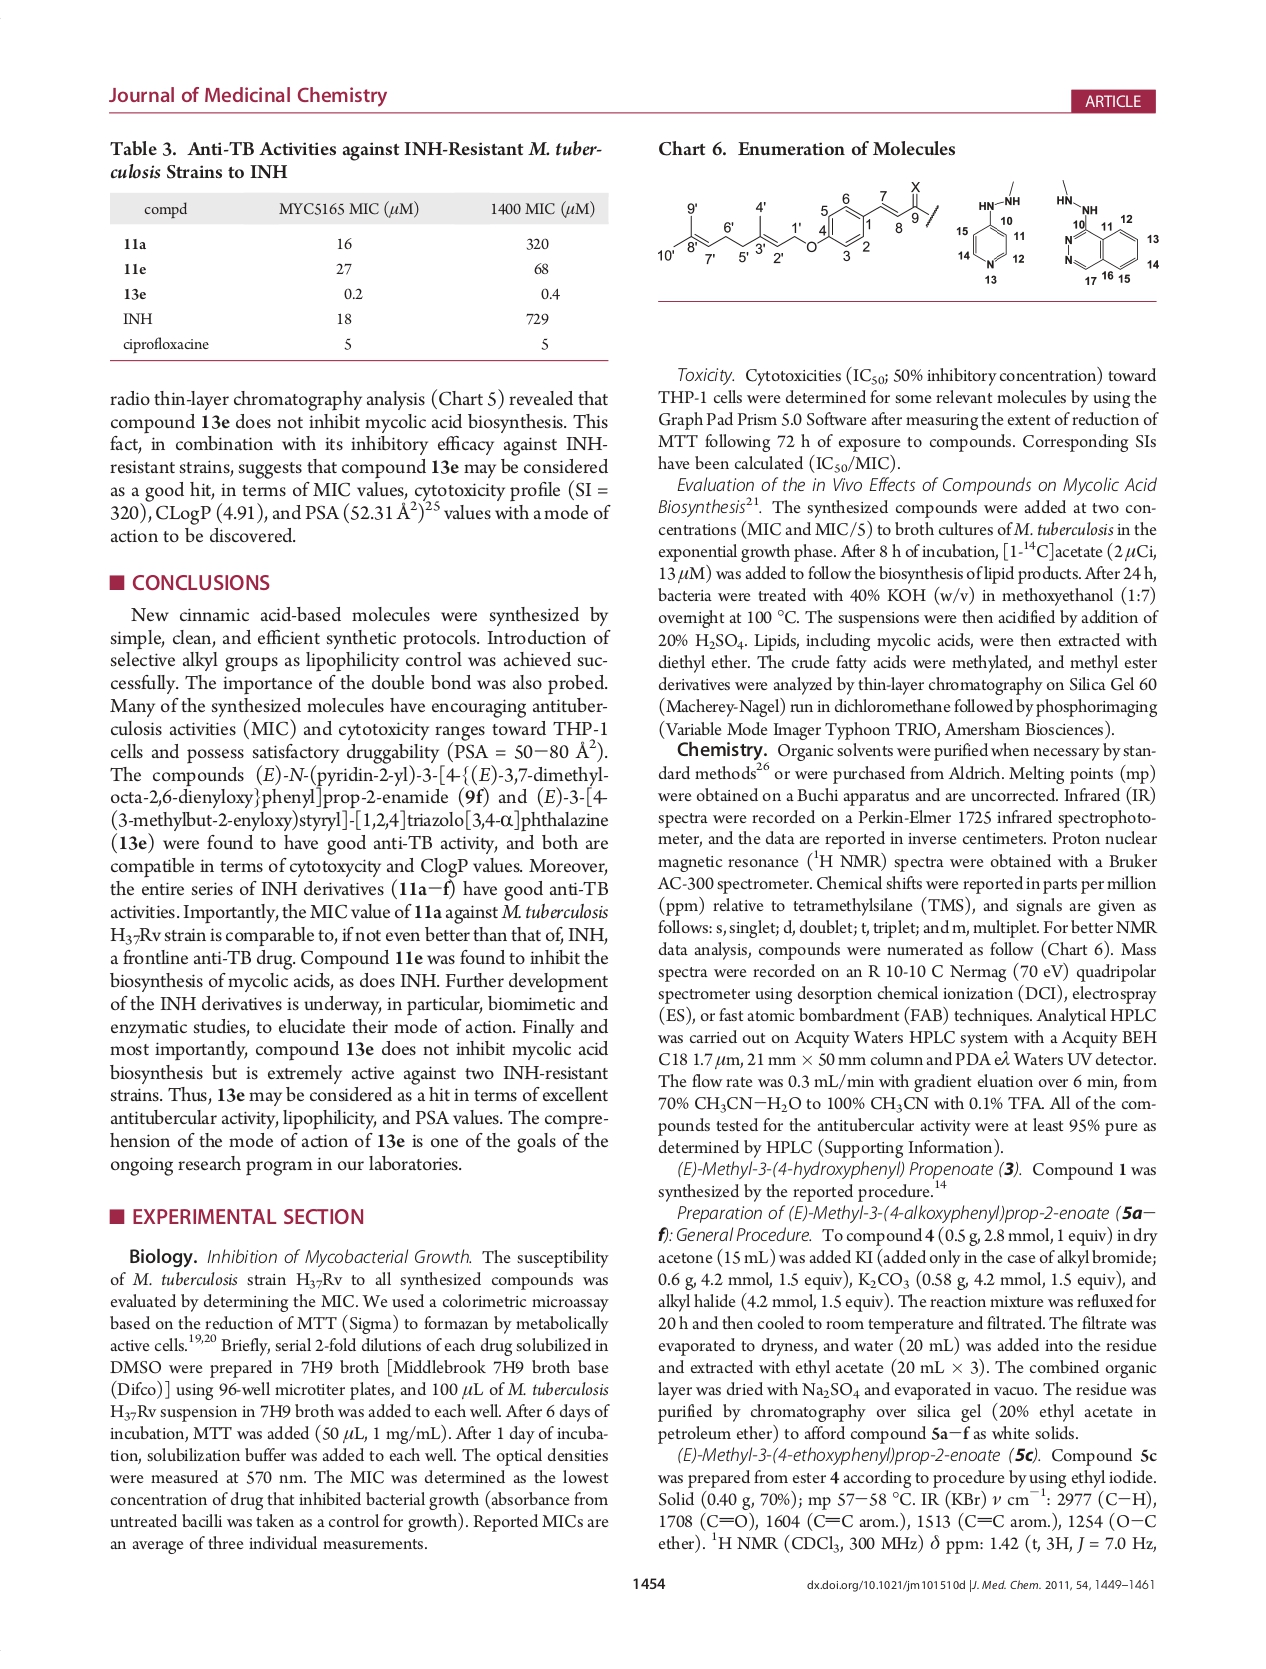exist_molecular: (654, 180, 942, 269), (1053, 173, 1144, 273), (965, 178, 1021, 269)
